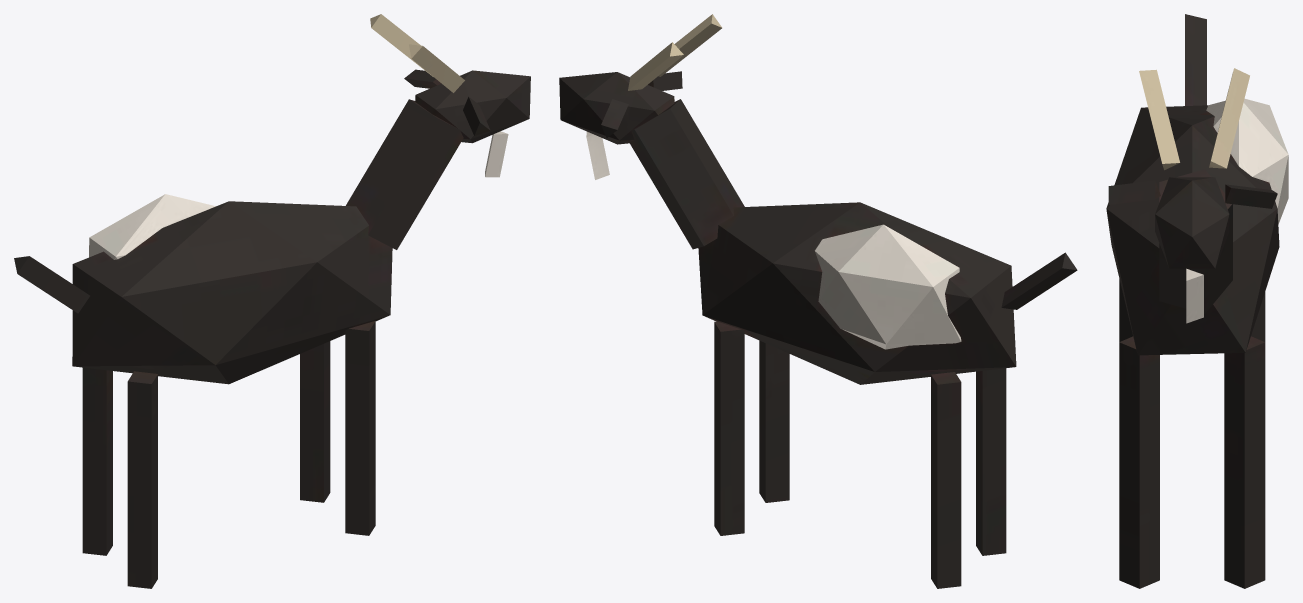
The model's file is get_1_tex.glb.
3 views of the same model, side by side, from view 1: azimuth 30°, elevation 25°; view 2: azimuth 150°, elevation 25°; view 3: azimuth 270°, elevation 25° (orthographic). The views are drawn at different scales.
Visible parts, largest first — view 1: get_1; view 2: get_1; view 3: get_1.
Part boxes in pixels (<box>): get_1: <box>14,14,530,588</box>; get_1: <box>559,14,1077,588</box>; get_1: <box>1106,14,1288,588</box>.
Bounding box in the file's own units: 1.19 × 1.03 × 0.3121.
Materials: 3 (3 with a texture image).
